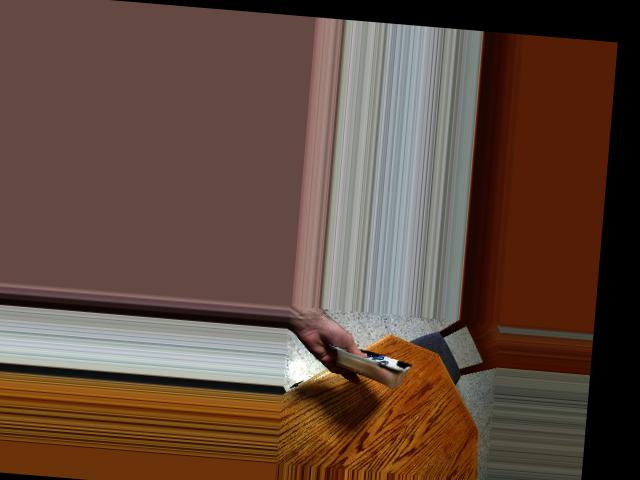cheese: (332, 328, 410, 397)
